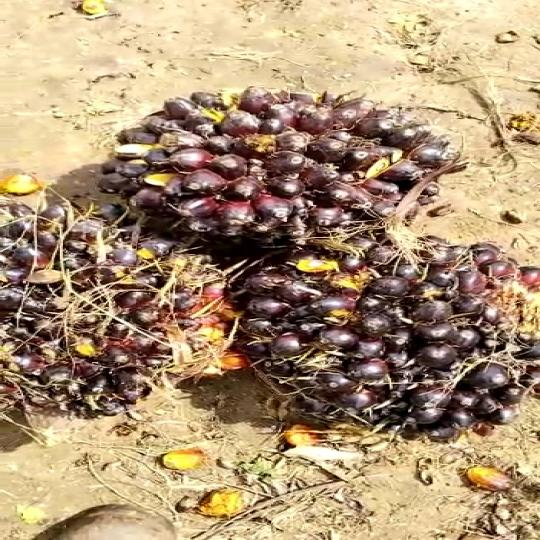mentah: (225, 234, 540, 434), (112, 85, 438, 248), (0, 187, 223, 422)
